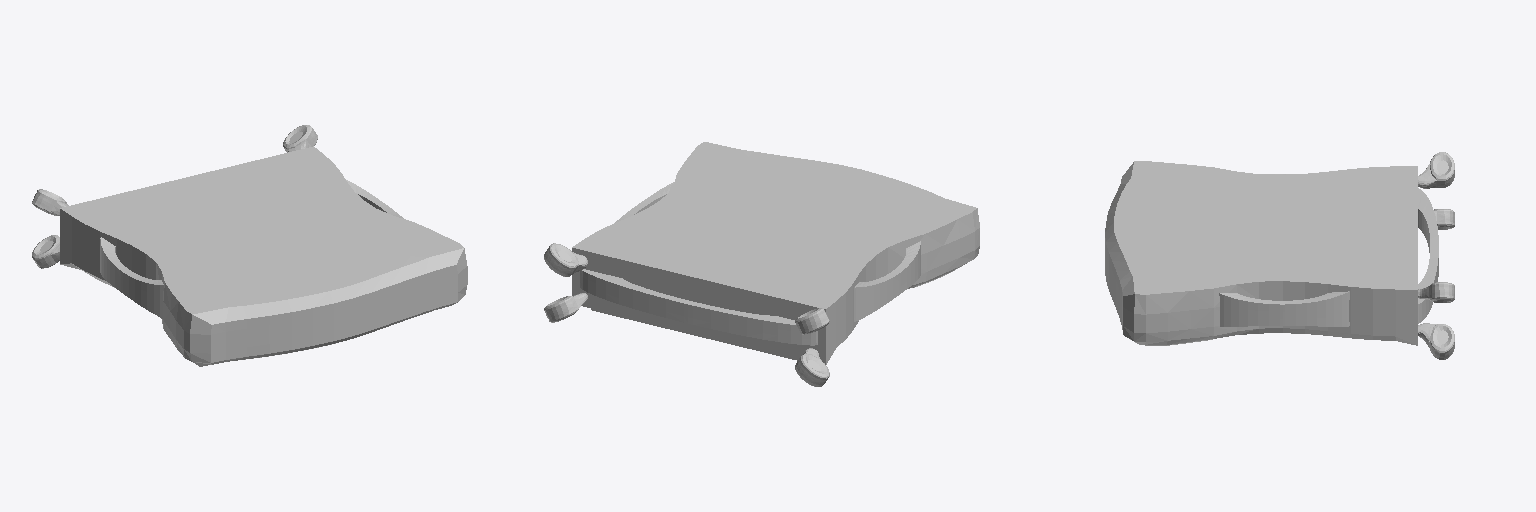
Rendered from BookShelf.obj.
The picture shows the model from 3 angles: view 1: azimuth 30°, elevation 25°; view 2: azimuth 150°, elevation 25°; view 3: azimuth 270°, elevation 25°; orthographic projection.
Visible parts, largest first — view 1: BookShelf1; view 2: BookShelf1; view 3: BookShelf1.
Part boxes in pixels (x1,y1,x2,y2): BookShelf1: (32,125,467,366); BookShelf1: (544,142,979,386); BookShelf1: (1105,152,1454,359).
Size of the model in its own units: 217 by 56.3 by 233.